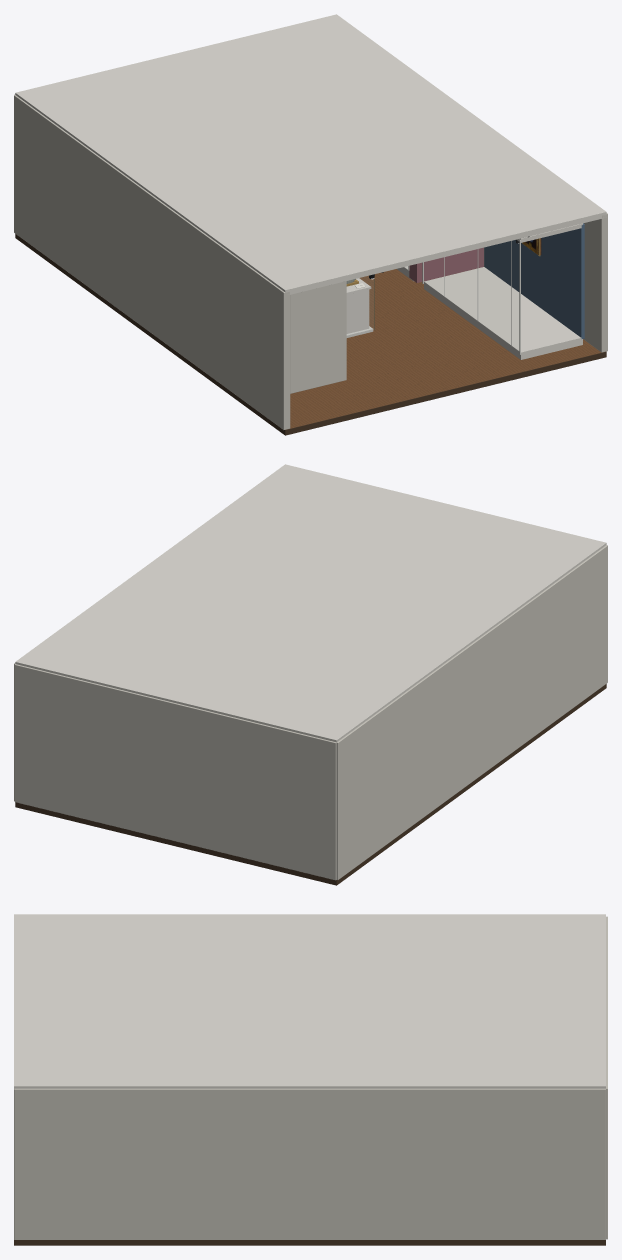
The model's file is european-porcelain-passage-v2.glb.
3 renders of one model, top to bottom at view 1: azimuth 30°, elevation 25°; view 2: azimuth 150°, elevation 25°; view 3: azimuth 270°, elevation 25°, orthographic. The views are drawn at different scales.
Visible parts, largest first — view 1: White ceiling perimeter, Back wall, Actual staggered floorboard joints, Blue backed wall case, Oak floor, Rose information column, Case frame upright; view 2: White ceiling perimeter, Back wall, Oak floor; view 3: White ceiling perimeter, Back wall, Oak floor.
Part boxes in pixels (box(x1,y1,x2,y2)): White ceiling perimeter: box(15, 14, 606, 359); Back wall: box(14, 94, 607, 429); Actual staggered floorboard joints: box(290, 269, 601, 428); Blue backed wall case: box(484, 223, 584, 338); Oak floor: box(15, 234, 606, 435); Rose information column: box(409, 247, 483, 282); Case frame upright: box(346, 239, 520, 354); White ceiling perimeter: box(15, 464, 606, 742); Back wall: box(14, 545, 607, 880); Oak floor: box(15, 684, 606, 885); White ceiling perimeter: box(14, 914, 605, 1088); Back wall: box(14, 916, 607, 1239); Oak floor: box(14, 1240, 605, 1245).
Bounding box in the file's own units: 8.88 × 3.8 × 12.84.
36 materials, 12 textured.
